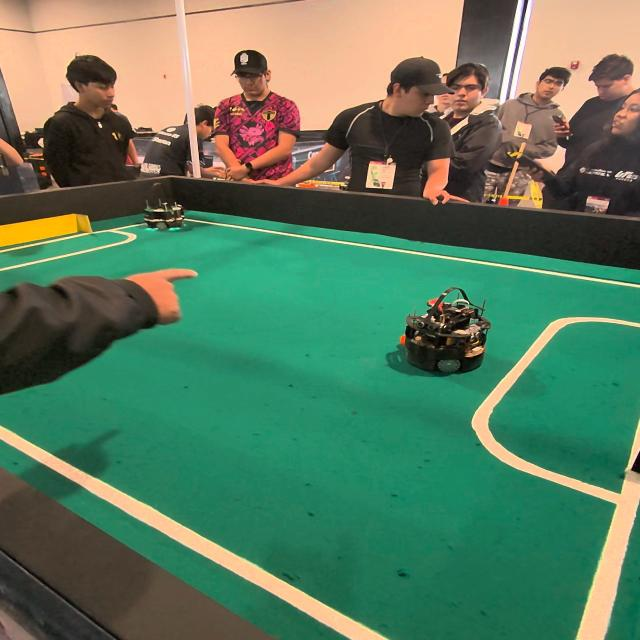Robot: (400, 286, 492, 381), (139, 176, 188, 239)
